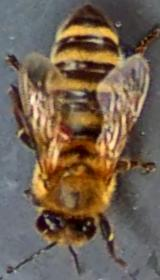varroa_mite: (40, 112, 78, 139)
